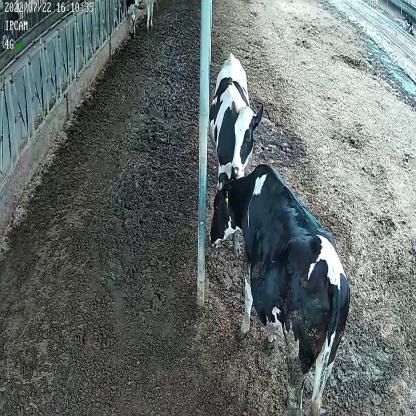cow: (208, 160, 351, 411), (210, 50, 265, 193)
